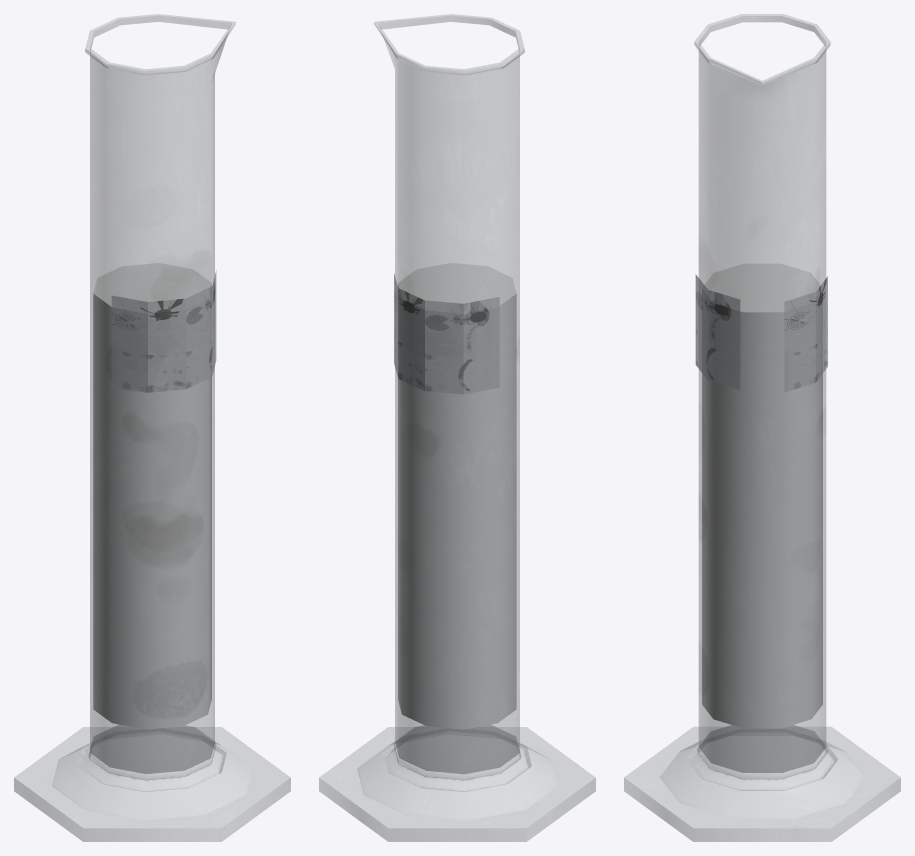
The model's file is TLLGraduatedCylinderWithLabel.glb.
3 views of the same model, side by side, from view 1: azimuth 30°, elevation 25°; view 2: azimuth 150°, elevation 25°; view 3: azimuth 270°, elevation 25° (orthographic).
Parts seen in each view (by area): view 1: BeakerwOpacity, BeakerLiquid, Label; view 2: BeakerwOpacity, BeakerLiquid, LabelBack; view 3: BeakerwOpacity, BeakerLiquid, Label, LabelBack.
Boxes of the visible parts, x1,y1,x2,y2 form: BeakerwOpacity: (14, 14, 290, 841); BeakerLiquid: (93, 263, 211, 729); Label: (111, 270, 216, 392); BeakerwOpacity: (319, 14, 595, 841); BeakerLiquid: (398, 263, 516, 729); LabelBack: (394, 273, 499, 394); BeakerwOpacity: (624, 14, 900, 841); BeakerLiquid: (702, 263, 822, 728); Label: (695, 274, 740, 389); LabelBack: (784, 276, 827, 392).
Size of the model in its own units: 0.087 by 0.3 by 0.1004.
2 materials, 1 textured.
